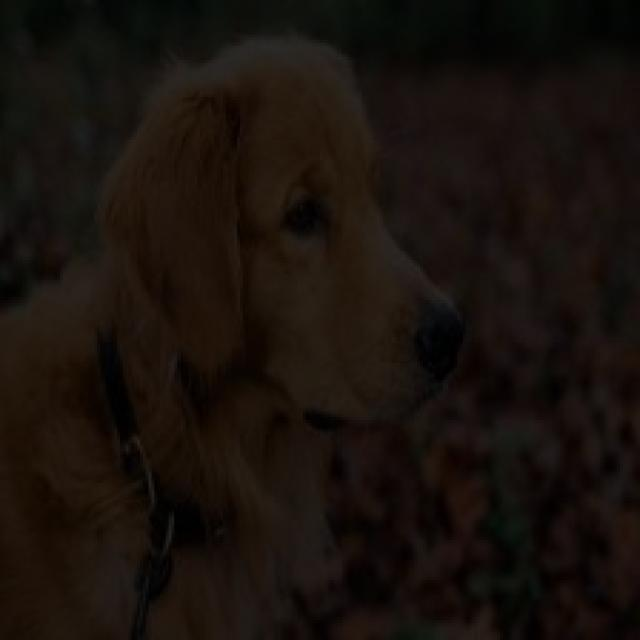bear: (79, 97, 518, 579)
